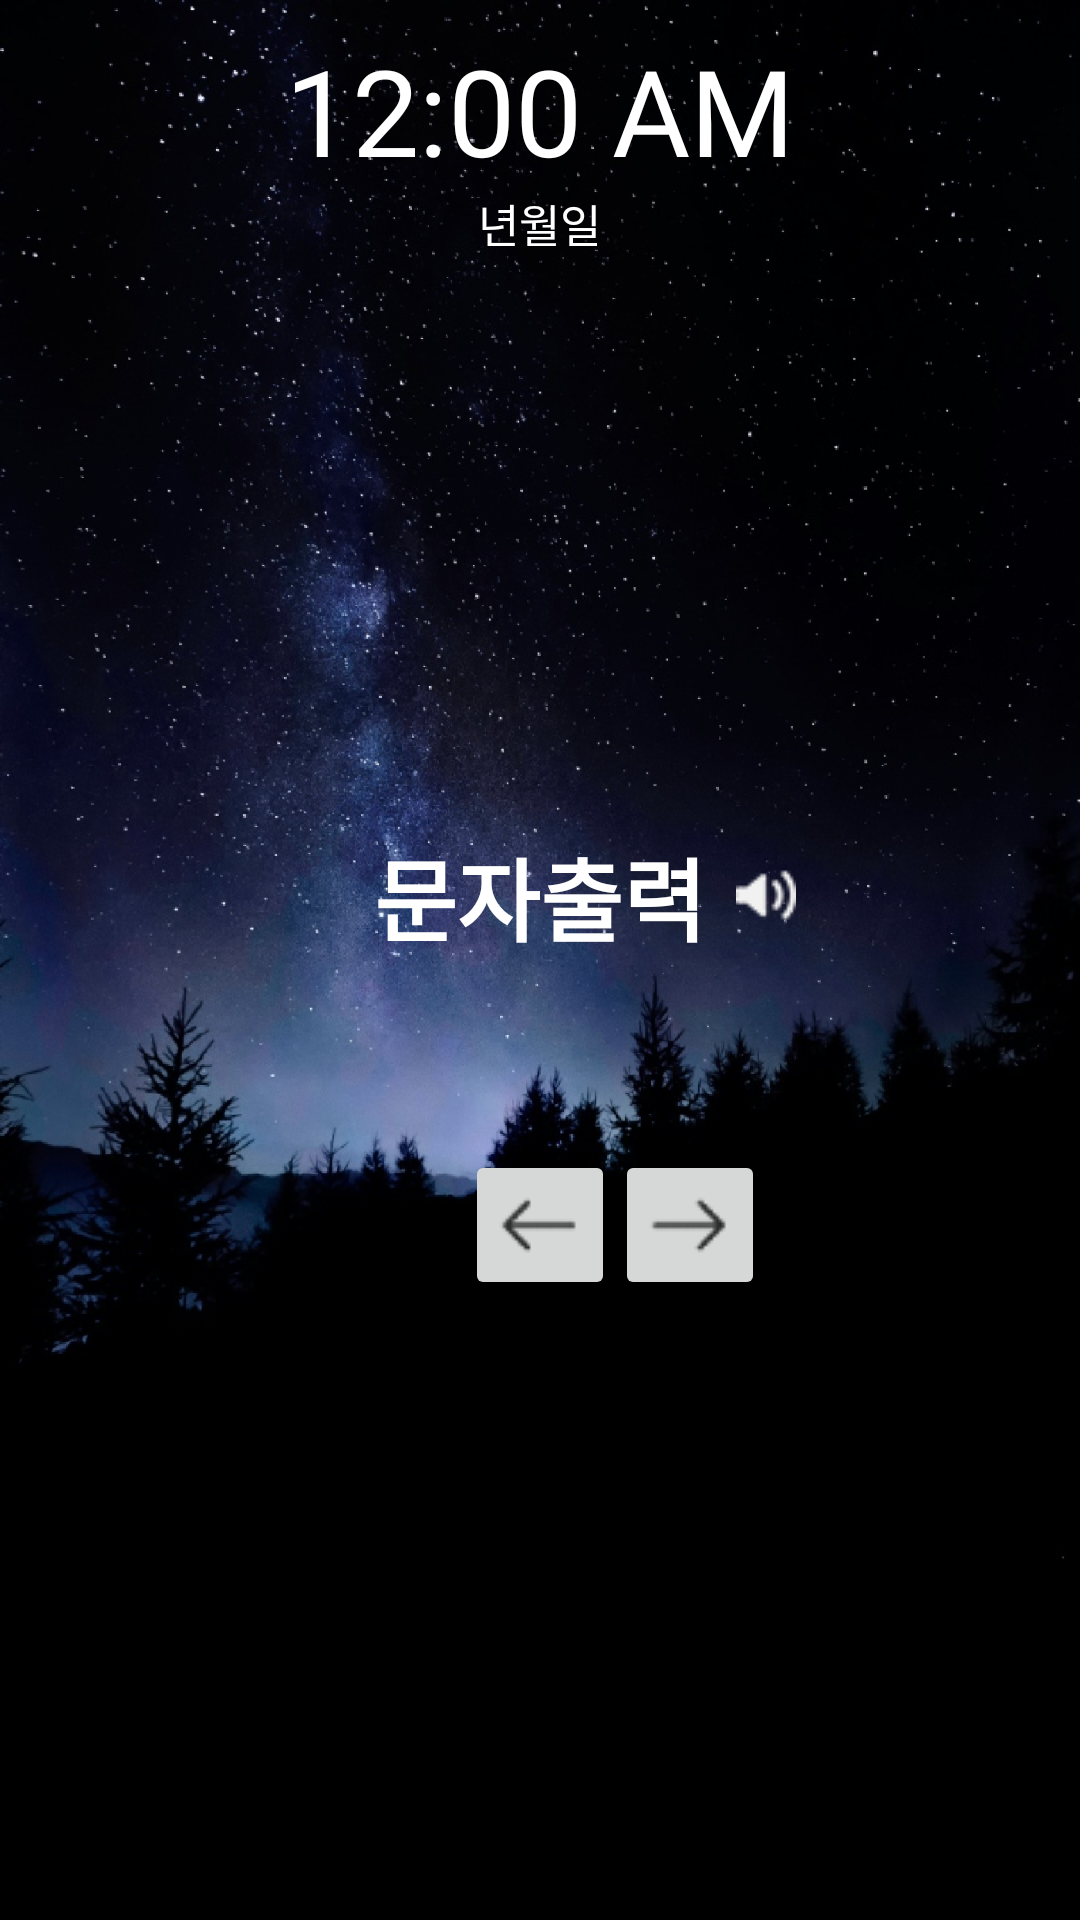

Point at icon controls on the screen. Image size 1080x1920, points as point (x, y).
left: point (540, 1216)
right: point (687, 1216)
speaker: point (766, 897)
